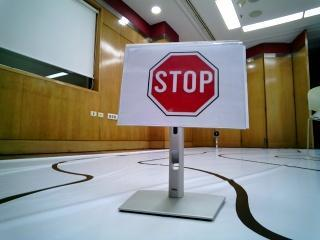stop: (122, 45, 237, 127)
